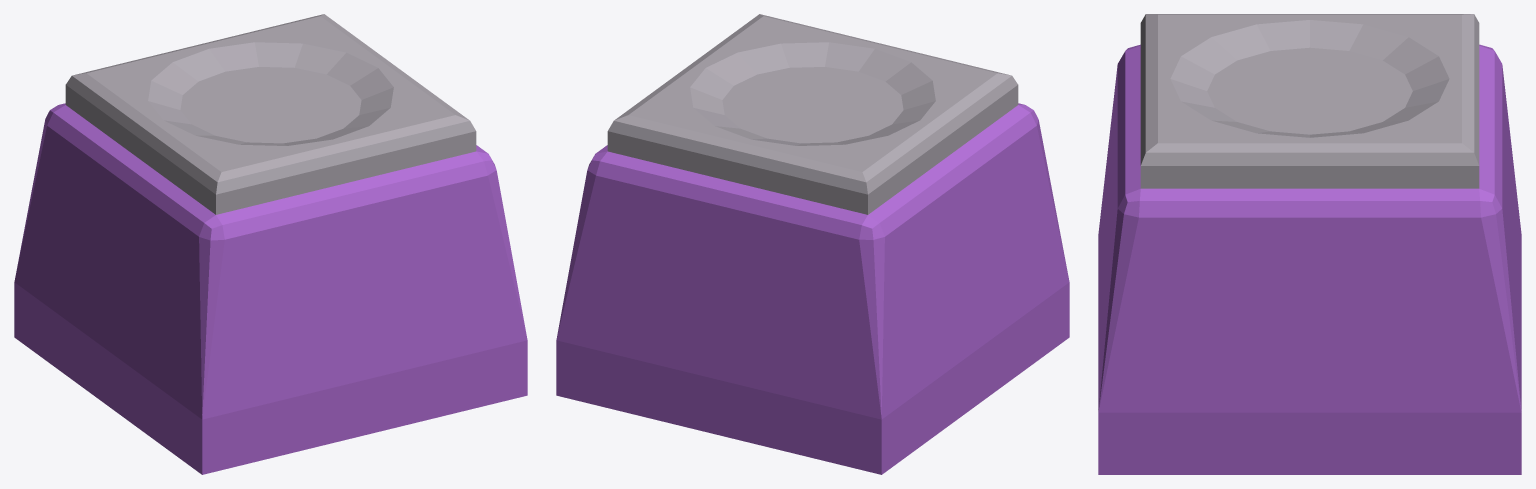
Rendered from PlateDispenser.fbx.
3 views of the same model, side by side, from view 1: azimuth 30°, elevation 25°; view 2: azimuth 150°, elevation 25°; view 3: azimuth 270°, elevation 25° (orthographic). The views are drawn at different scales.
Visible parts, largest first — view 1: PlateDispenser; view 2: PlateDispenser; view 3: PlateDispenser.
Boxes of the visible parts, left/top/right/bottom form: PlateDispenser: left=14, top=14, right=527, bottom=474; PlateDispenser: left=556, top=14, right=1069, bottom=474; PlateDispenser: left=1098, top=14, right=1521, bottom=474.
Size of the model in its own units: 100 by 80 by 100.
